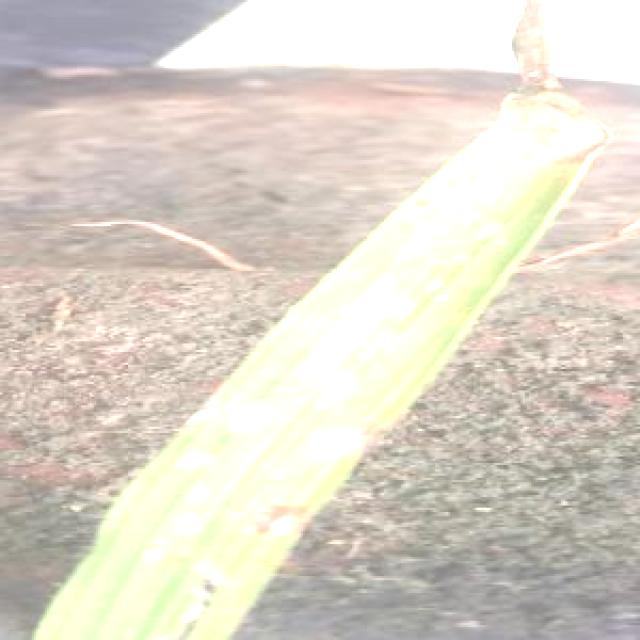Brown_Spot: (234, 486, 310, 552)
